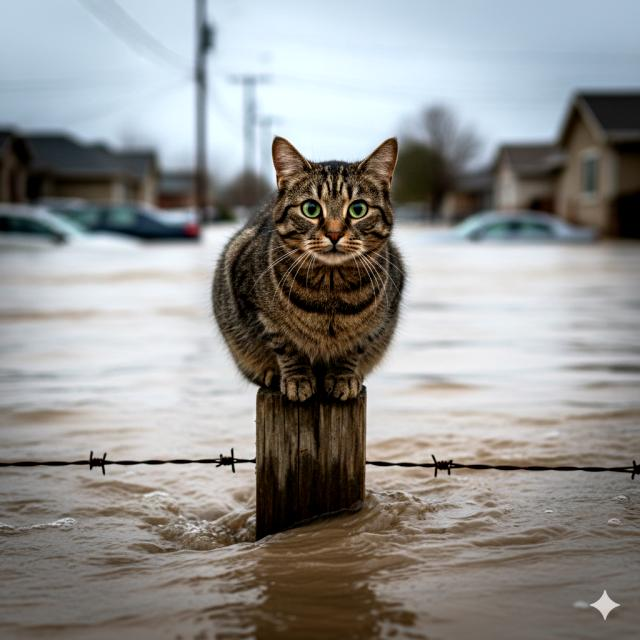cat: (203, 117, 426, 415)
